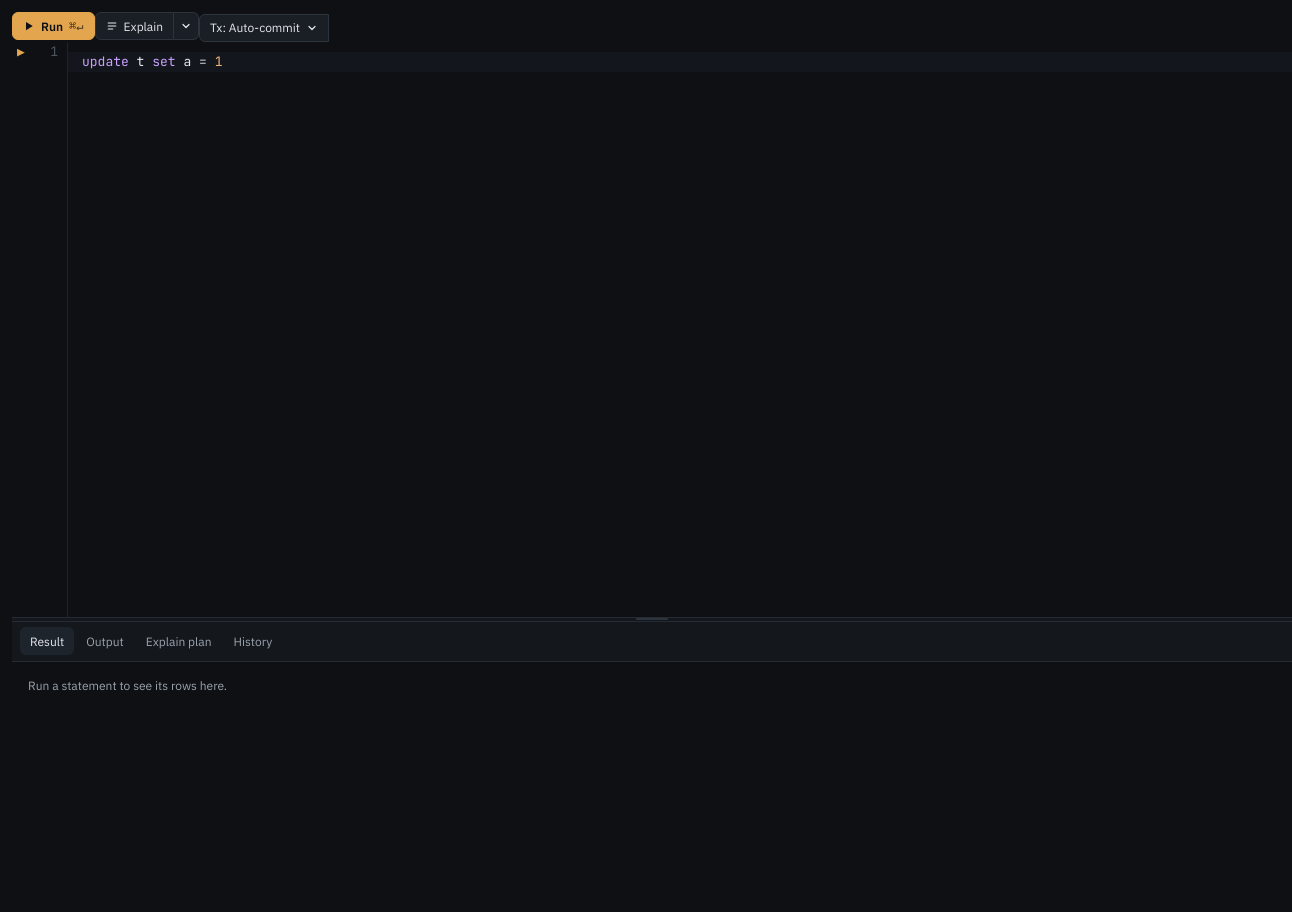
Test: isolation level in the Tx menu (spec: sql-console › Transaction isolation level) › starts from the connection's default level (spec: sql-console › Connection default)
Click the button "Tx: Auto-commit" at (264, 28), box [199,14,329,42]
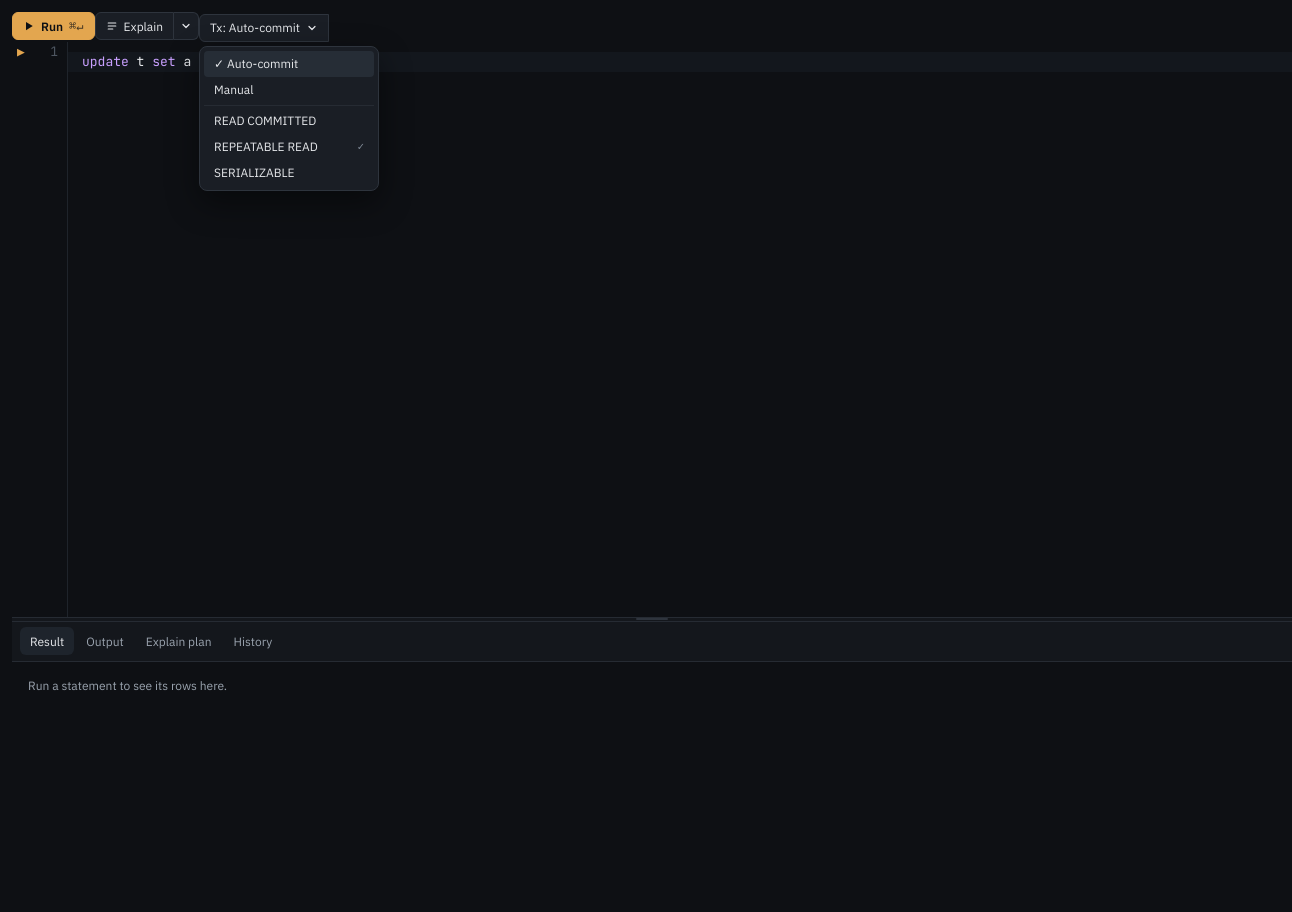
Click the menu item "Manual" at (289, 90), box [204,76,374,102]
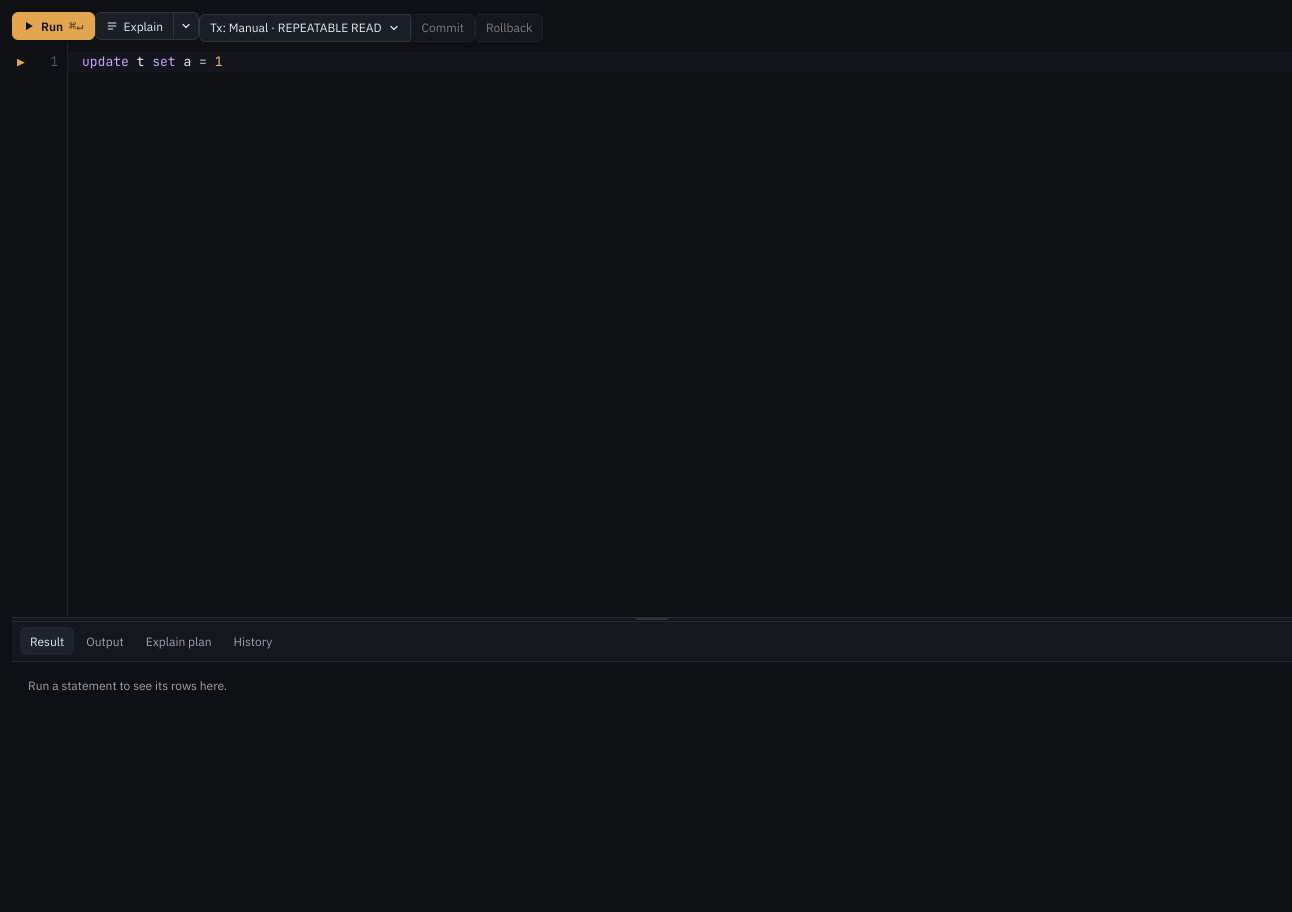
Expected: the button "Tx: Manual · REPEATABLE READ" is shown, [199,14,411,42]
